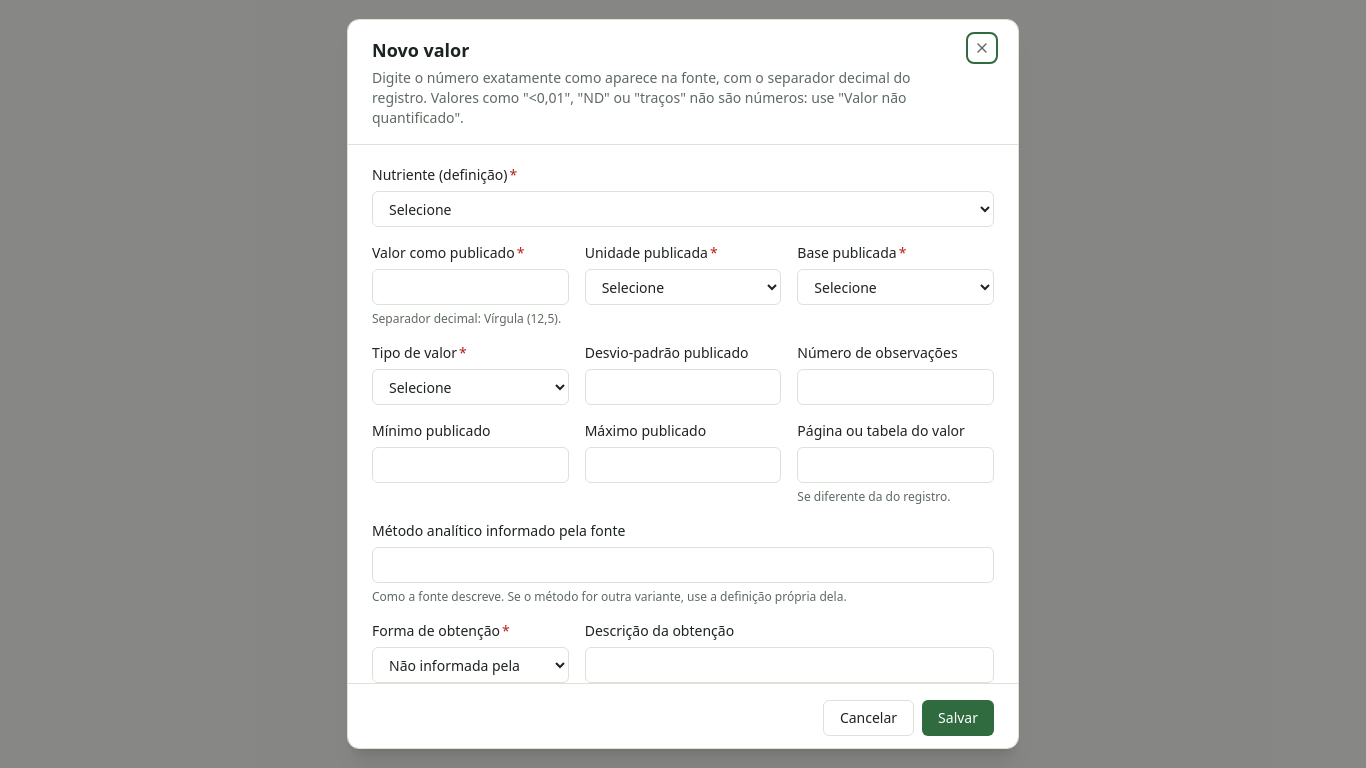
Scenario: banco de alimentos: interface › o número digitado é lido na hora com o separador do registro; texto censurado é recusado
The width and height of the screenshot is (1366, 768).
Type "1.050" into the field labelled "Valor como publicado*" at [470, 287], box [372,269,569,305]
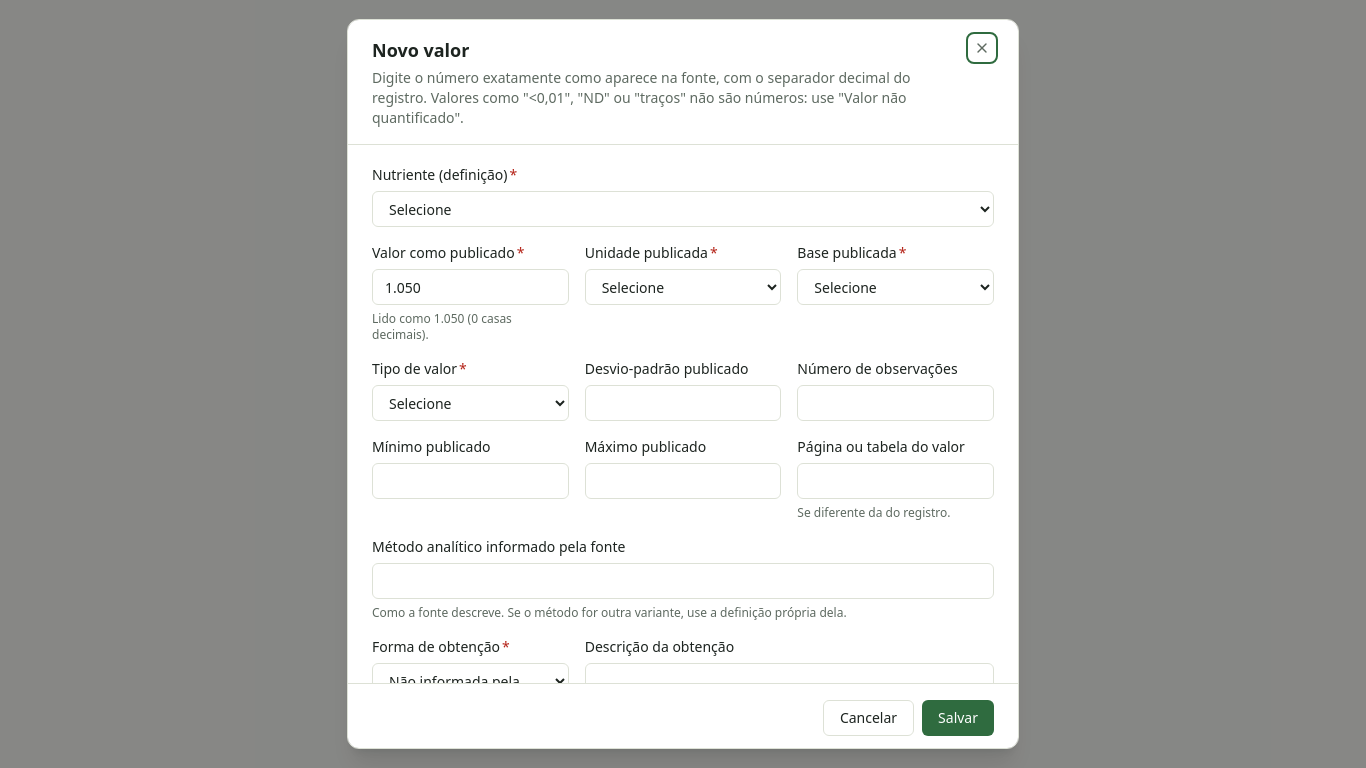
expect the text "Lido como 1.050 (0 casas decimais)." is shown: met, box [372,310,512,343]
Replace the text in the field labelled "Valor como publicado*" with "<0,01" at [470, 287], box [372,269,569,305]
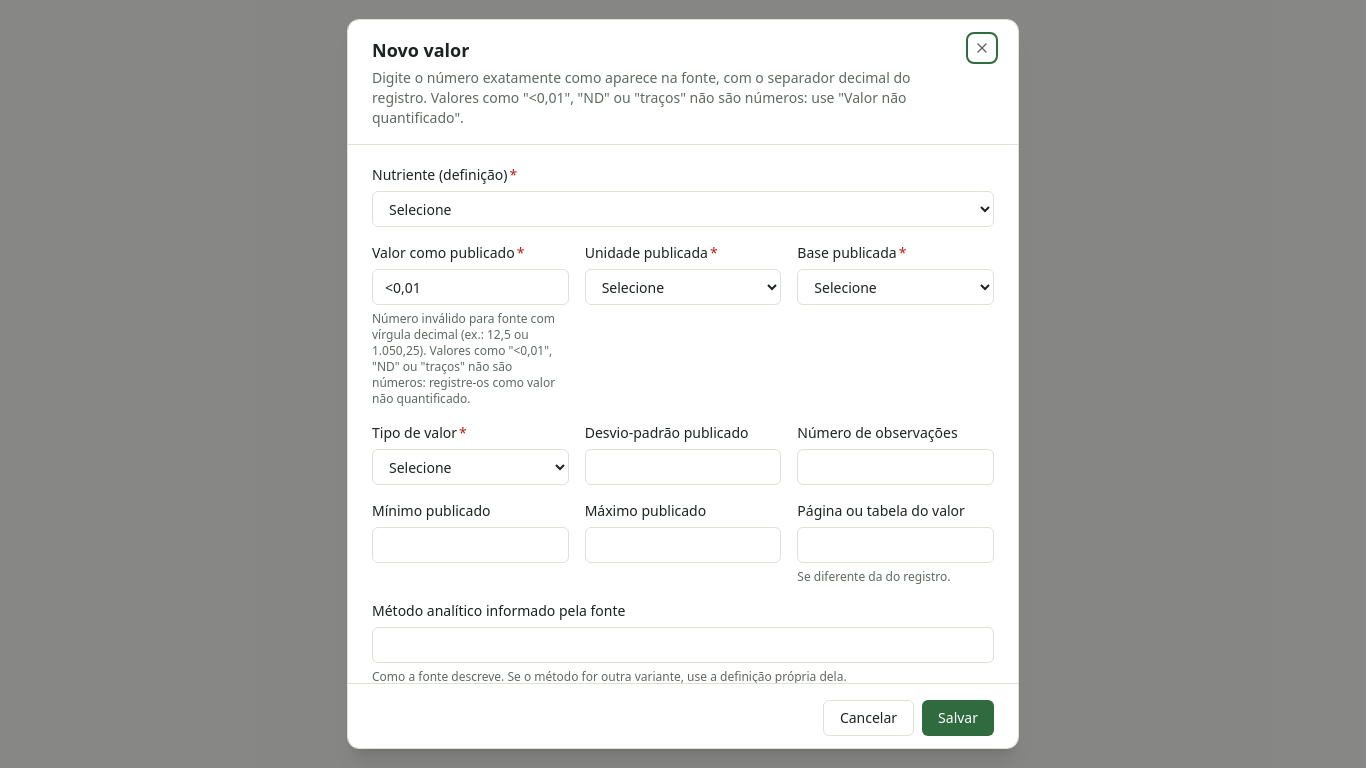
expect the text "Número inválido para fonte com vírgula decimal" is shown: met, box [372,310,555,407]
